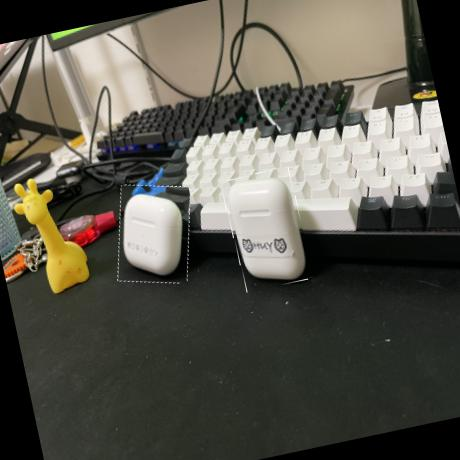airpod2: (221, 166, 314, 293)
airpod3: (104, 175, 203, 292)
